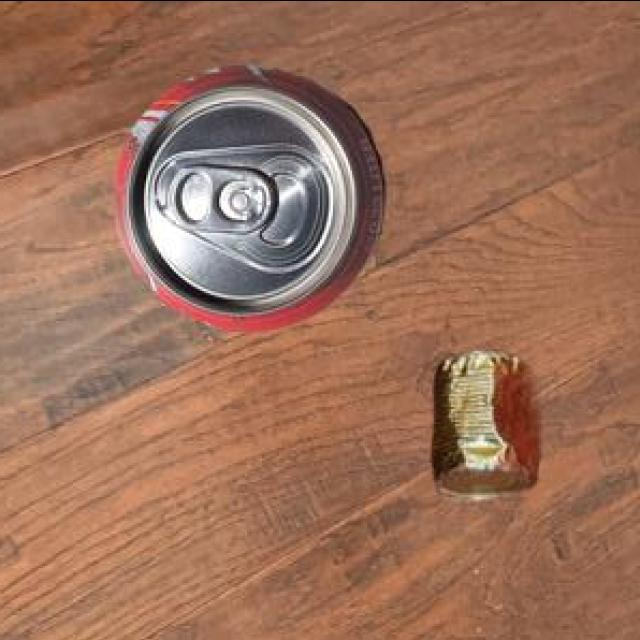logam: (117, 61, 388, 328), (435, 347, 542, 497)
